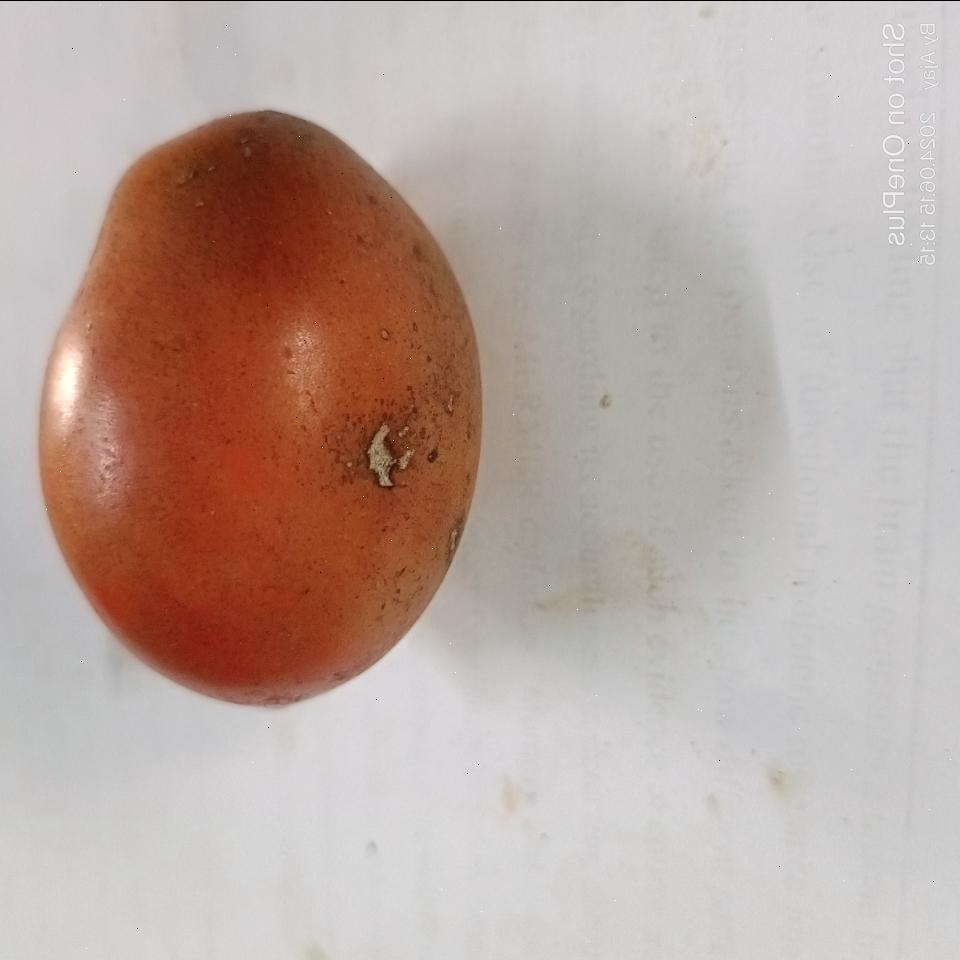Bacterial_Spot: (362, 417, 404, 493)
